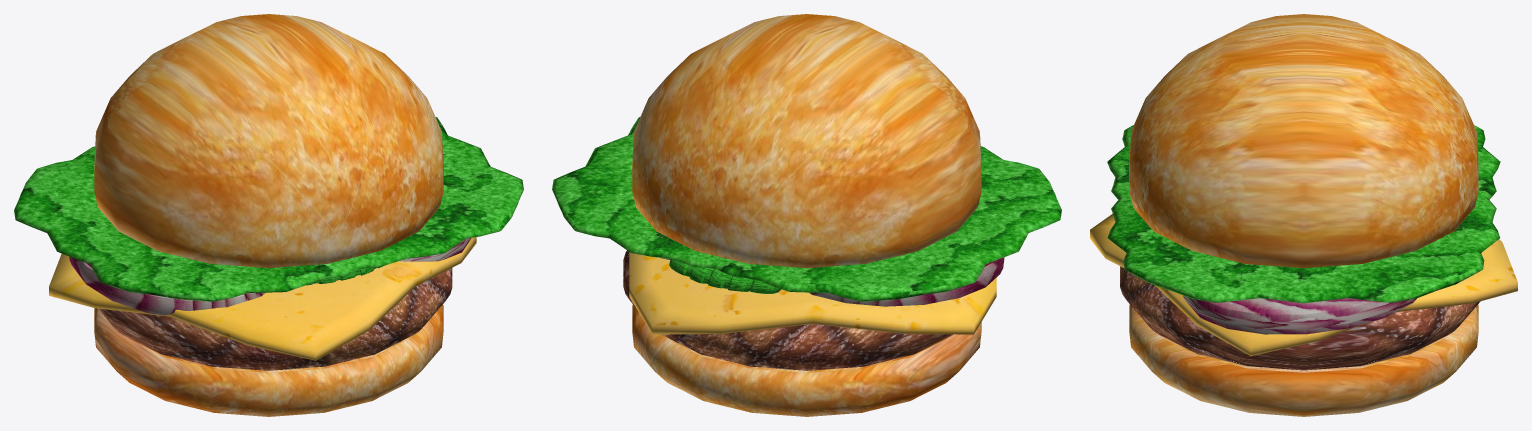
3 views of the same model, side by side, from view 1: azimuth 30°, elevation 25°; view 2: azimuth 150°, elevation 25°; view 3: azimuth 270°, elevation 25° (orthographic).
Parts seen in each view (by area): view 1: Cylinder003; view 2: Cylinder003; view 3: Cylinder003.
Boxes of the visible parts, x1,y1,x2,y2 form: Cylinder003: (14,14,523,416); Cylinder003: (552,14,1061,416); Cylinder003: (1090,14,1517,416).
Bounding box in the file's own units: 150 × 112 × 131.
Materials: 6 (6 with a texture image).
